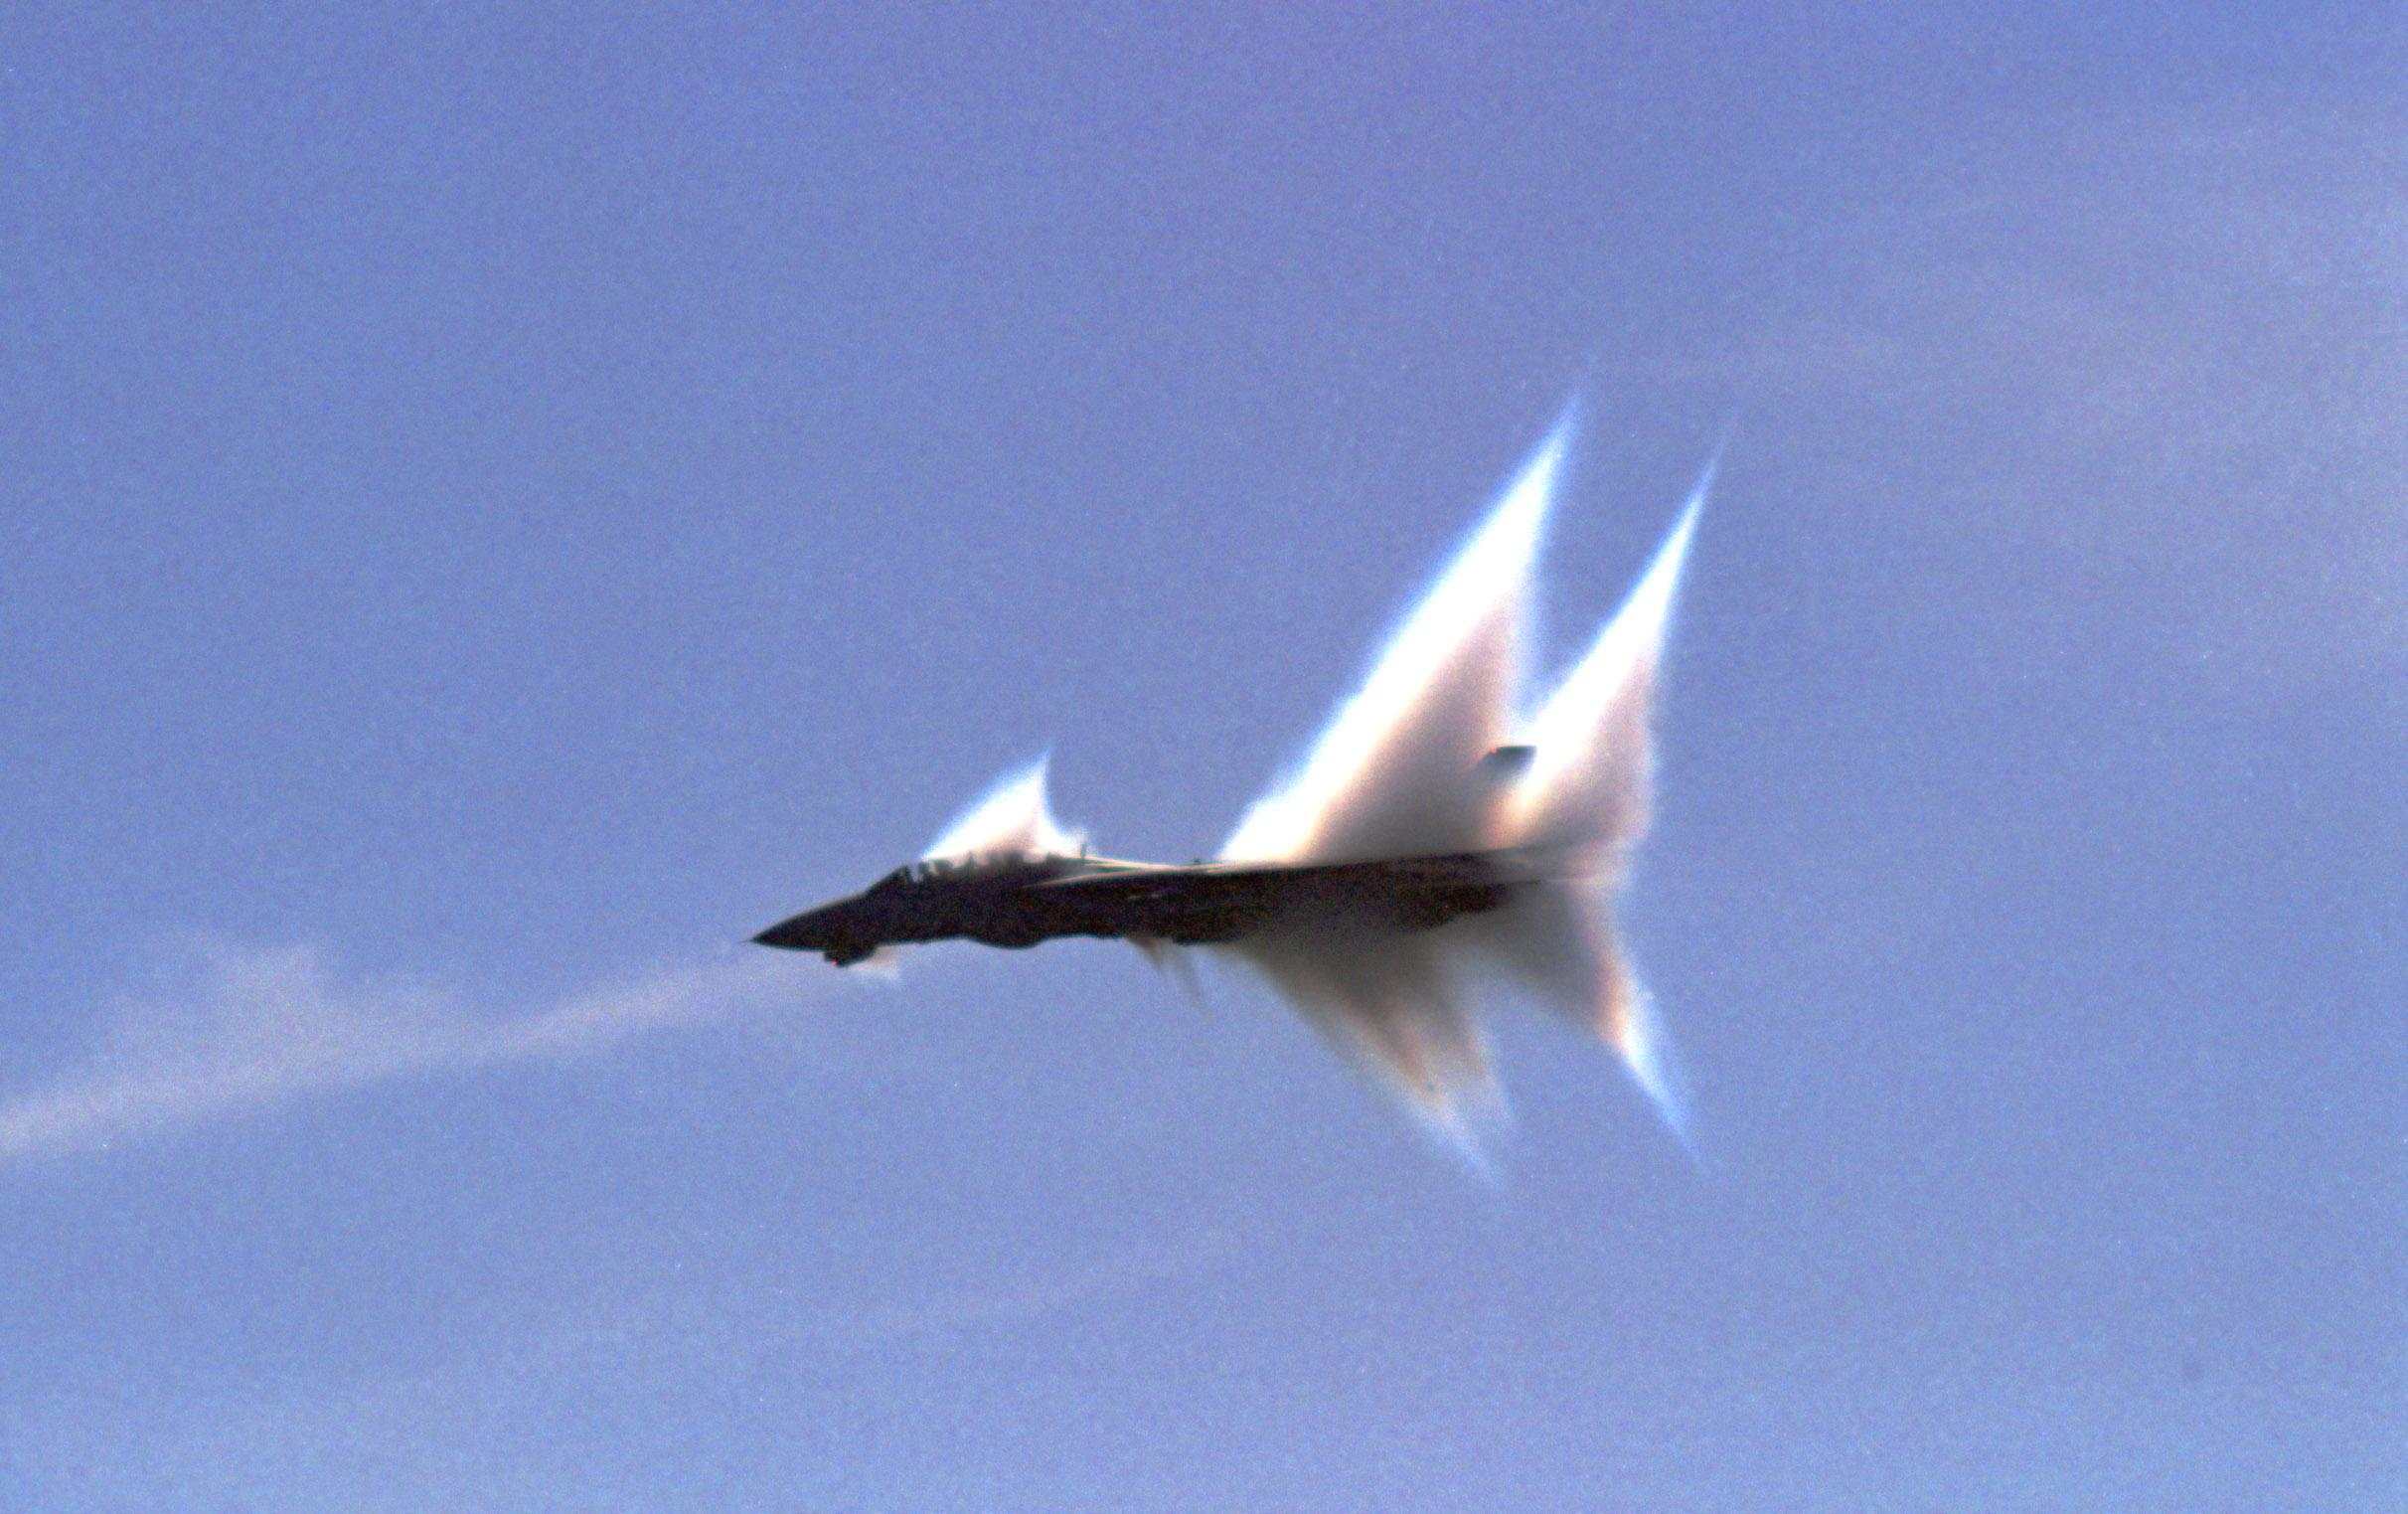F14: (734, 743, 1592, 970)
